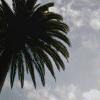Tree: (6, 0, 76, 80)
